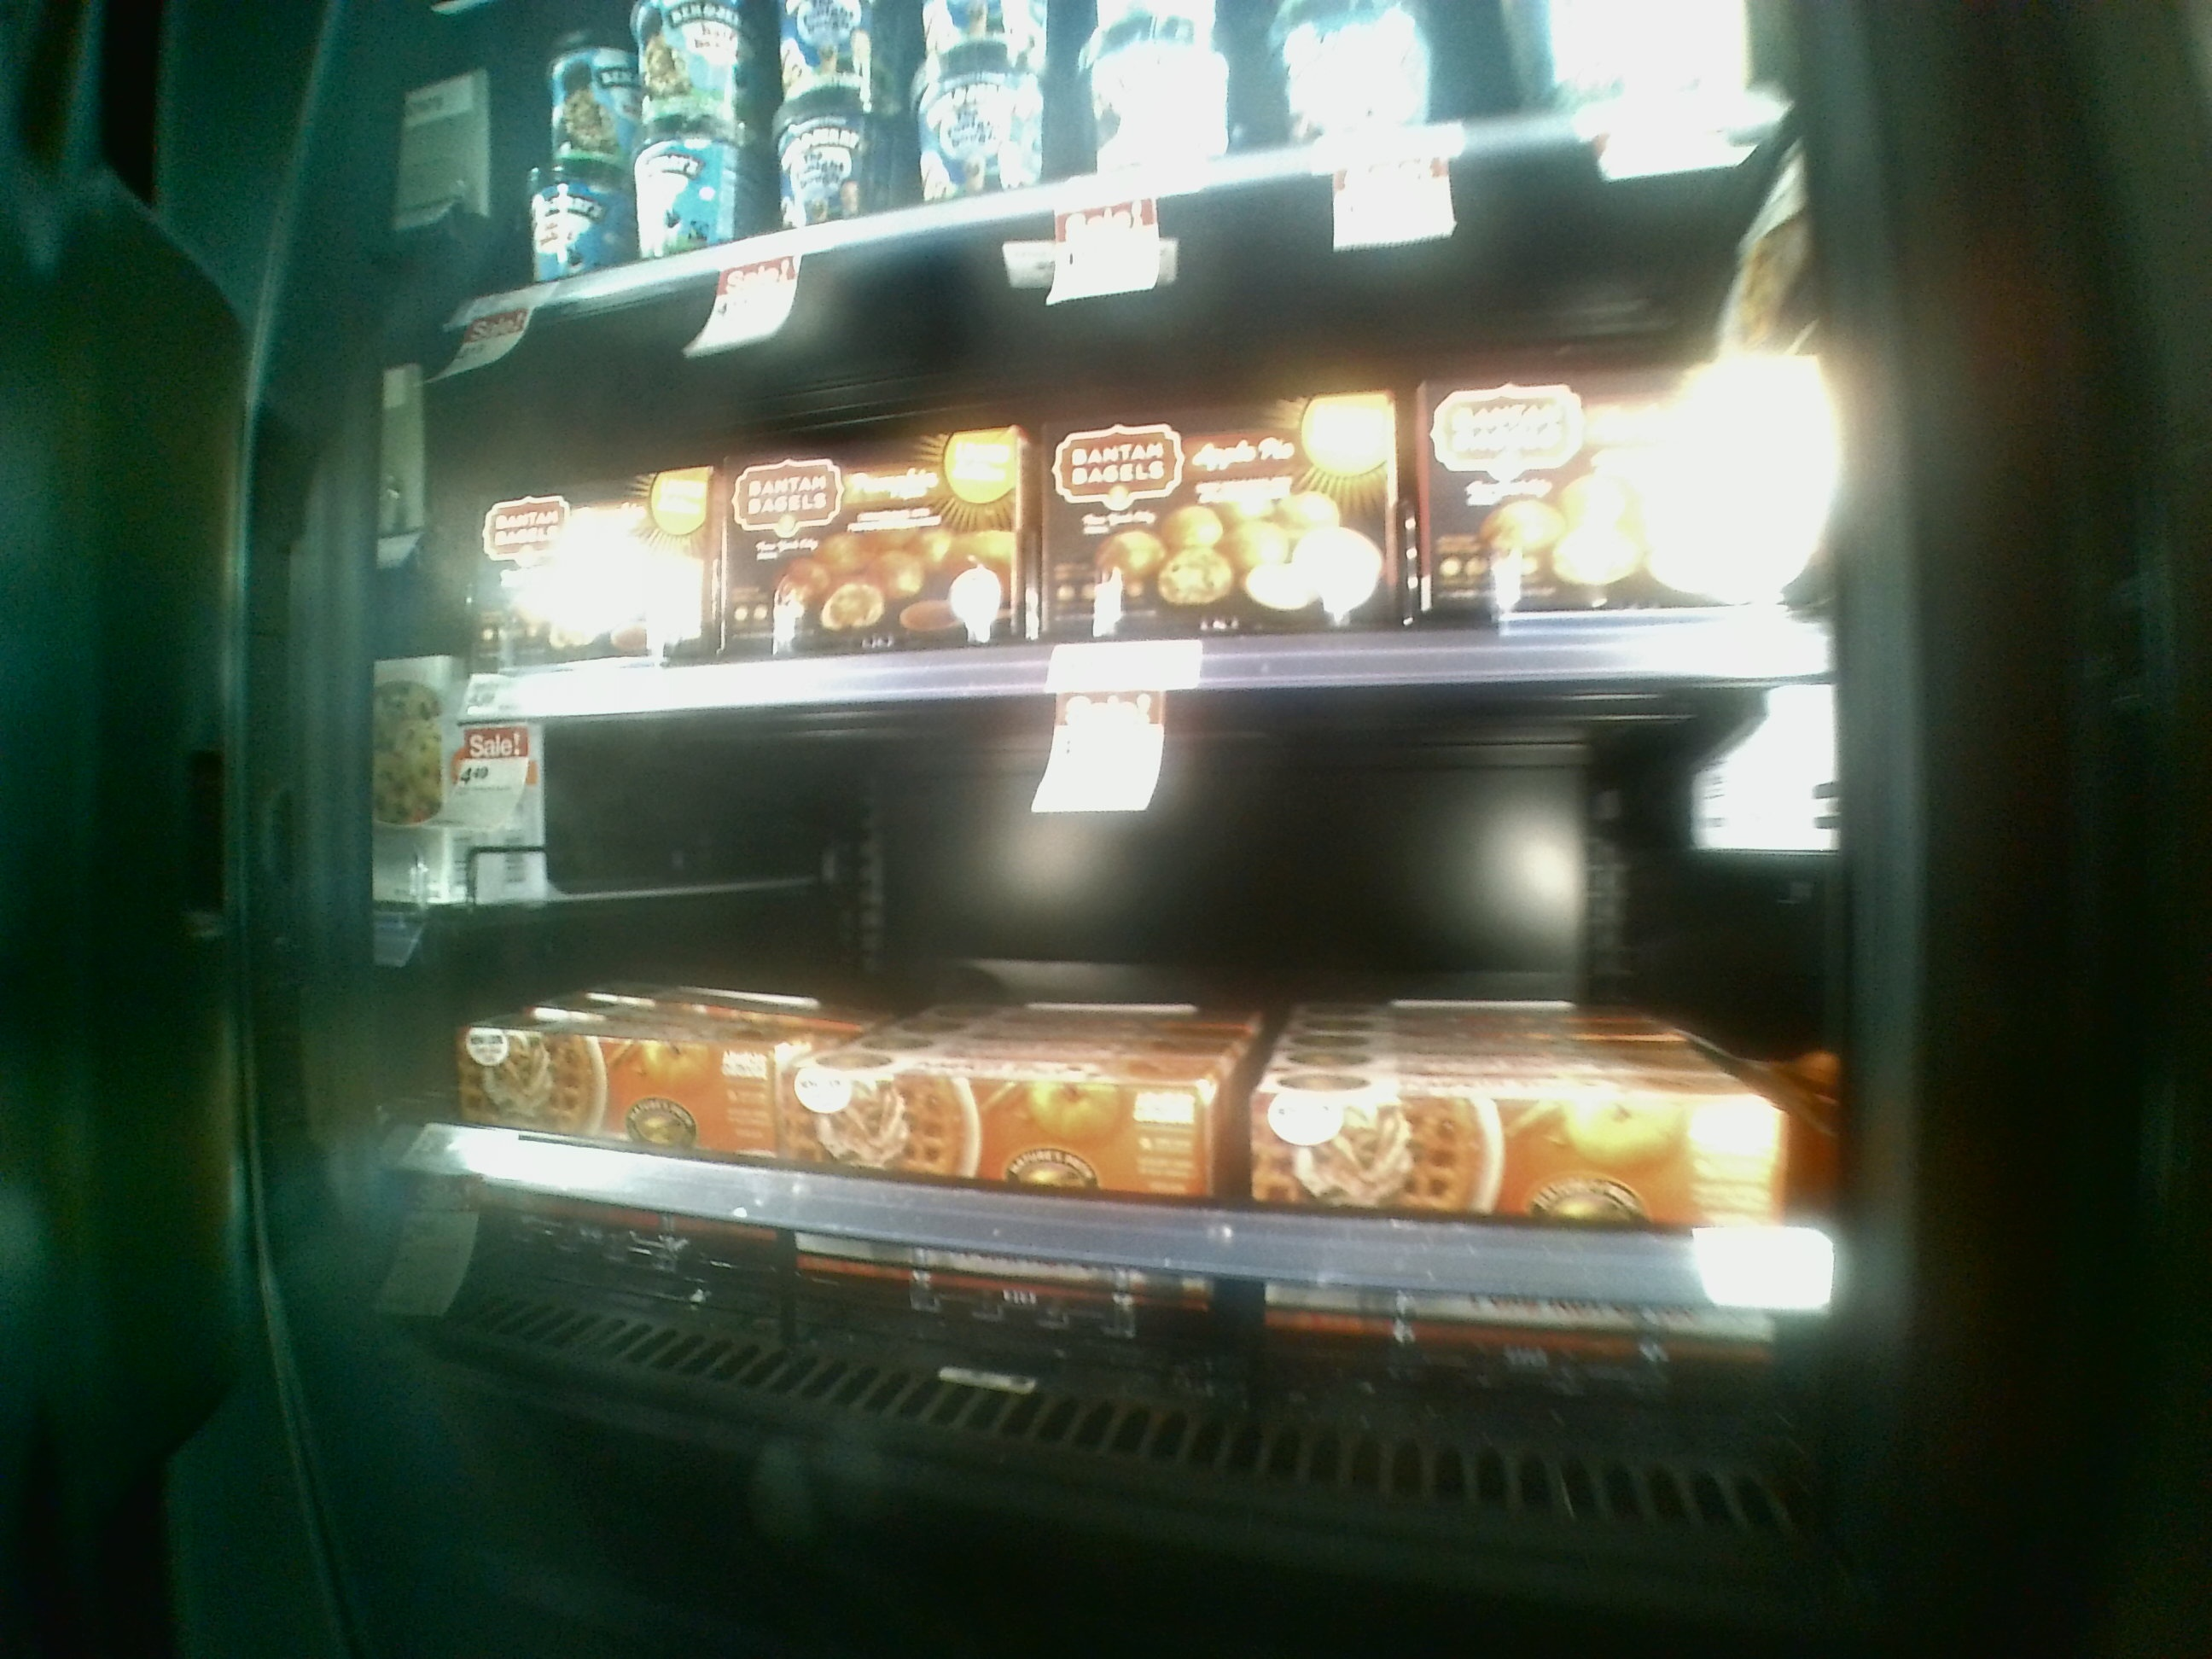shelf: (371, 692, 1848, 1455), (383, 321, 1844, 676)
